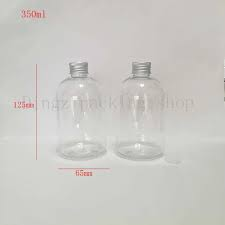available: (49, 59, 109, 166), (114, 57, 166, 169)
